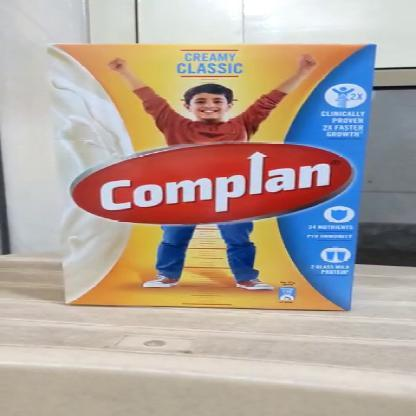Complan Classic Creme: (60, 42, 371, 304)
